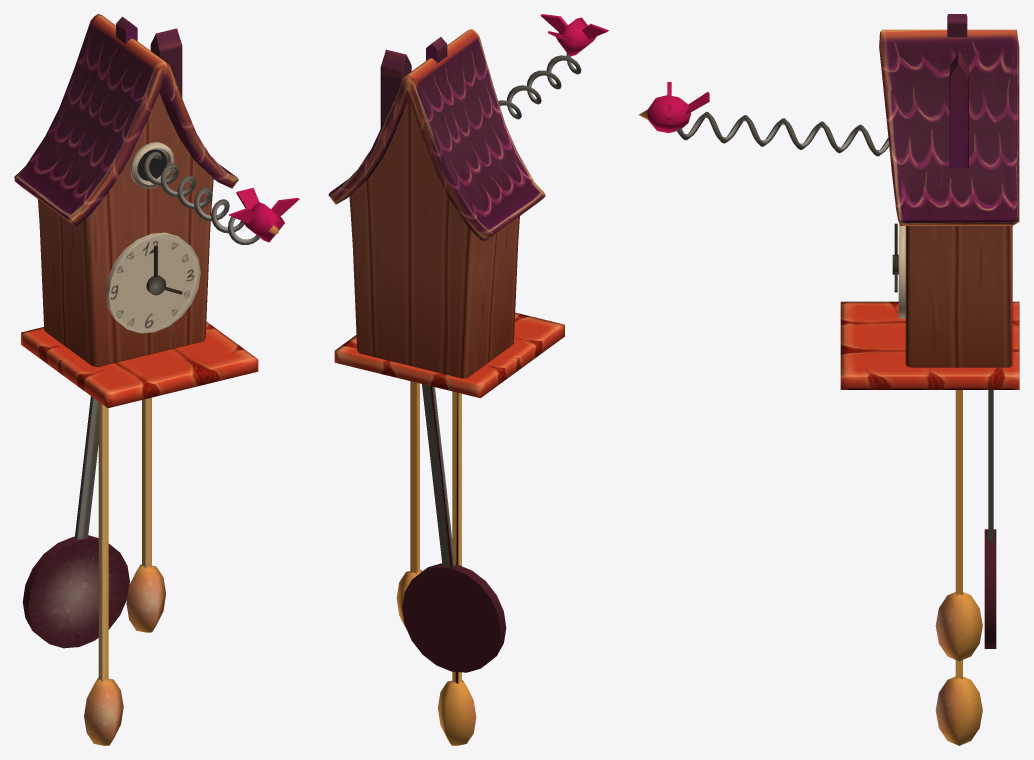
Rendered from fireplace_cuckoo_clock.fbx.
3 renders of one model, left to right at view 1: azimuth 30°, elevation 25°; view 2: azimuth 150°, elevation 25°; view 3: azimuth 270°, elevation 25°, orthographic. The views are drawn at different scales.
Visible parts, largest first — view 1: clock1; view 2: clock1; view 3: clock1.
Boxes of the visible parts, x1,y1,x2,y2 form: clock1: (14,14,299,745); clock1: (328,14,608,745); clock1: (638,14,1019,745).
Bounding box in the file's own units: 37.78 × 71.53 × 154.
